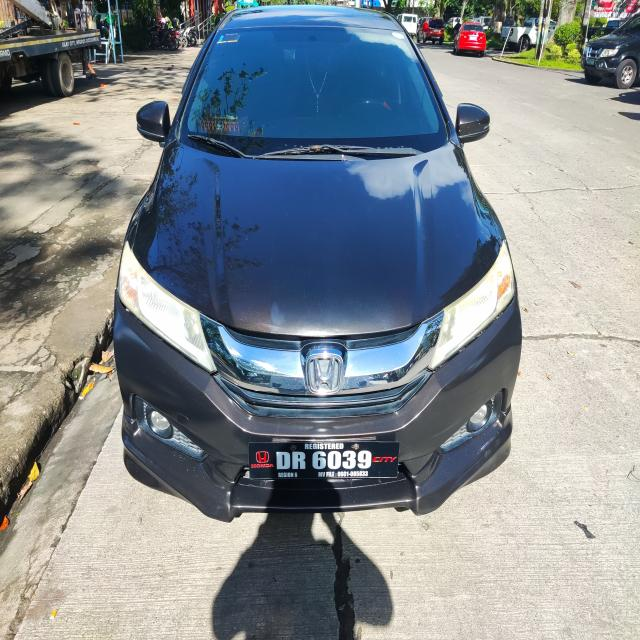plate: (246, 438, 402, 483)
